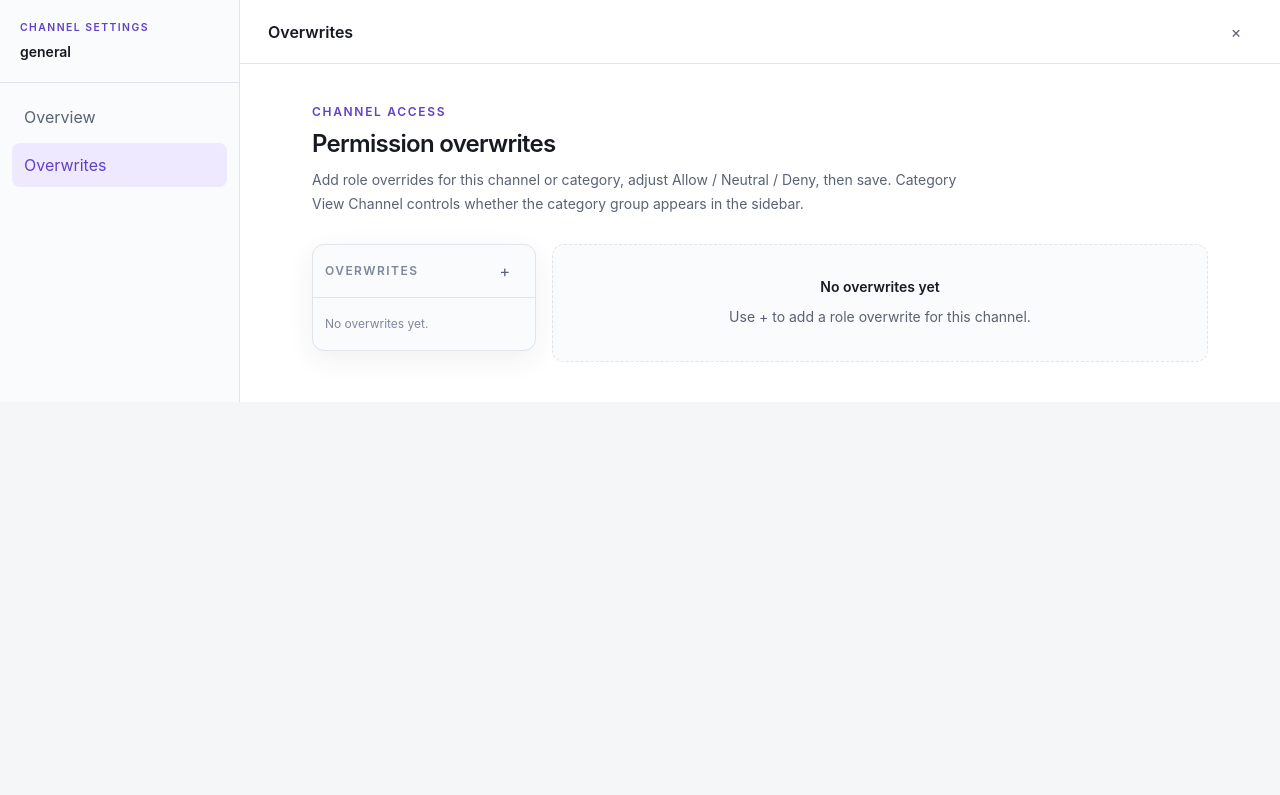
it: ChannelSettingsPage › adds a role overwrite from the picker without refetching
Click the button named "Add role overwrite" at (505, 271), box [486,255,523,287]
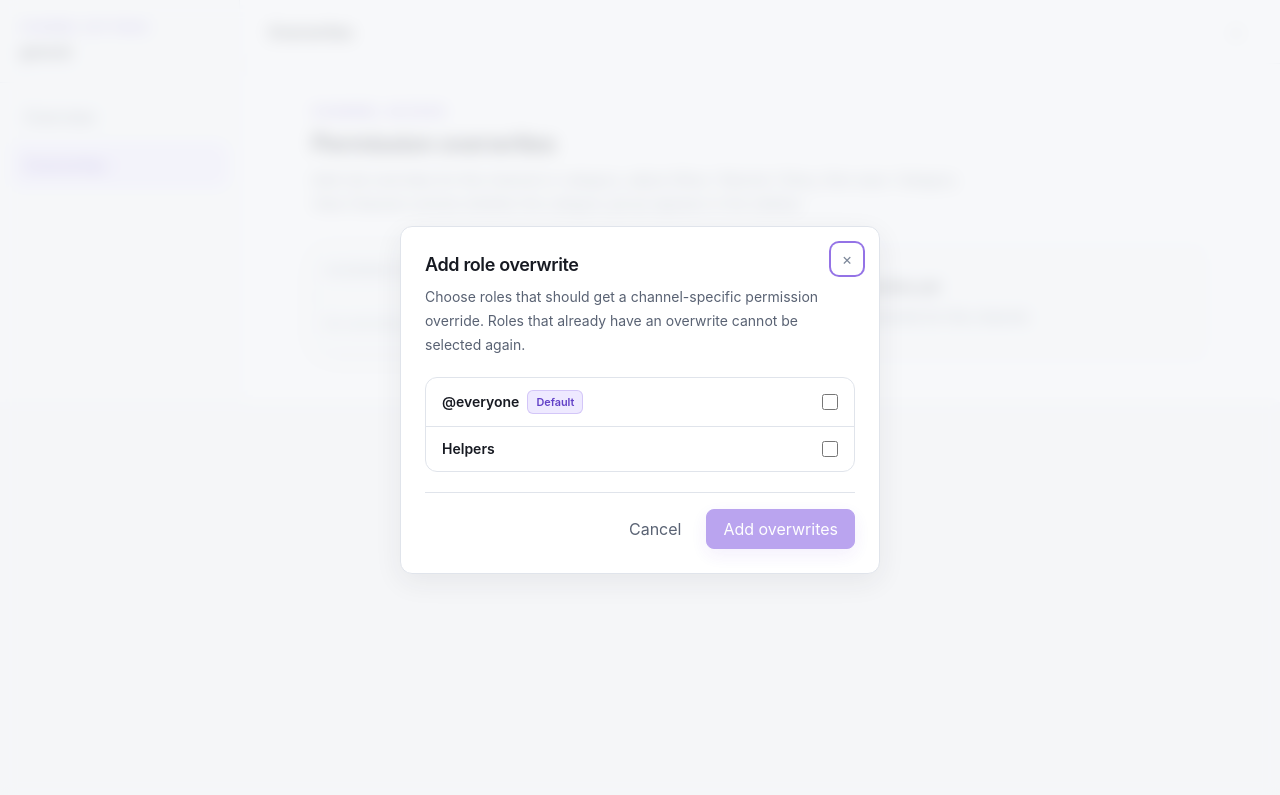
Click the checkbox named "Add overwrite for Helpers" at (830, 449), box [822,441,838,457]
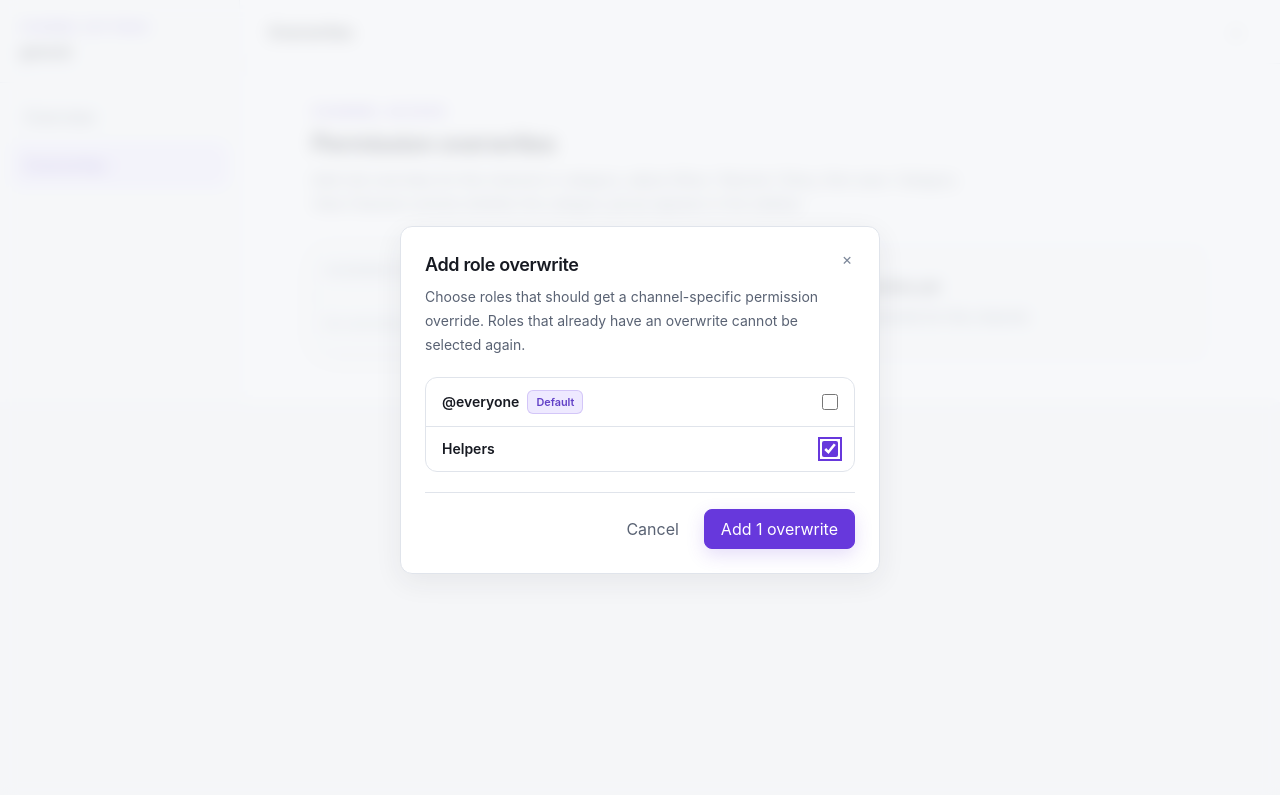
Click the button "Add 1 overwrite" at (779, 529), box [704,509,855,549]
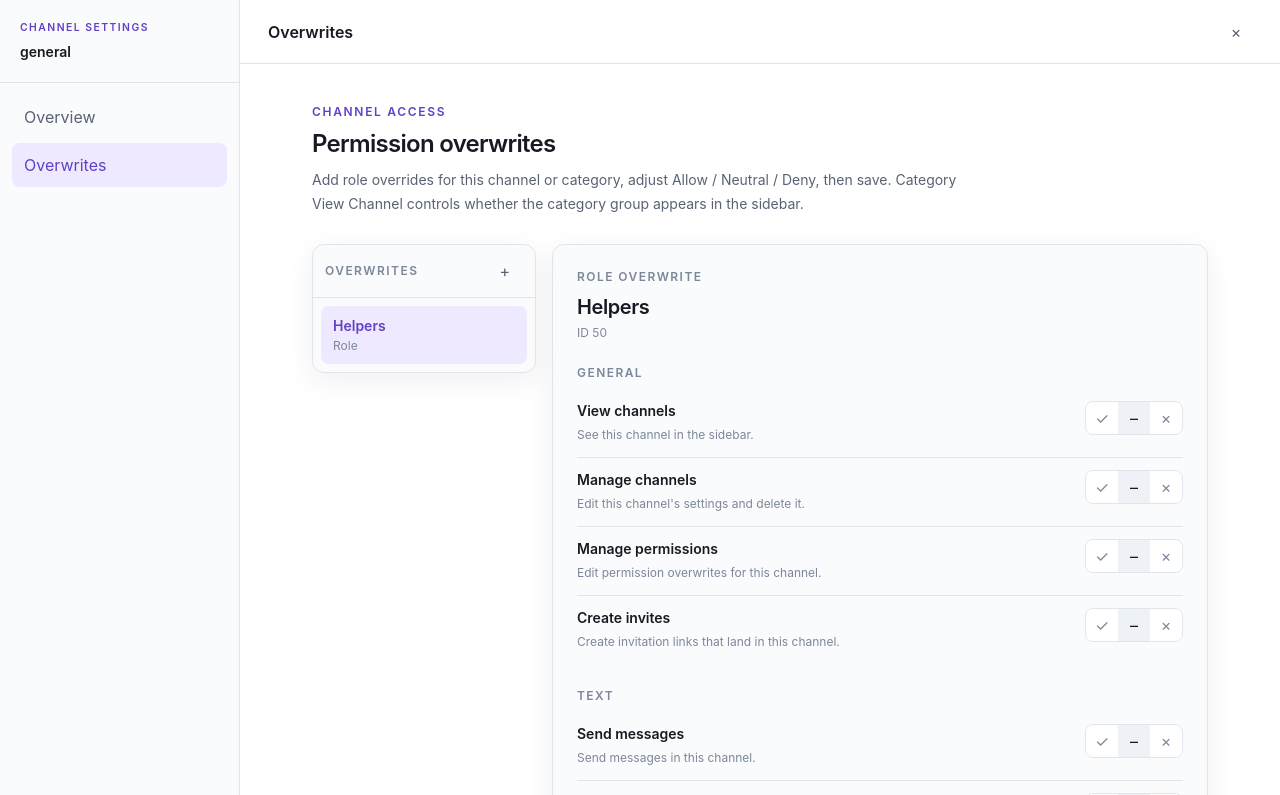
Result: the dialog is gone
Result: the heading "Helpers" is shown at [577,295,649,319]
